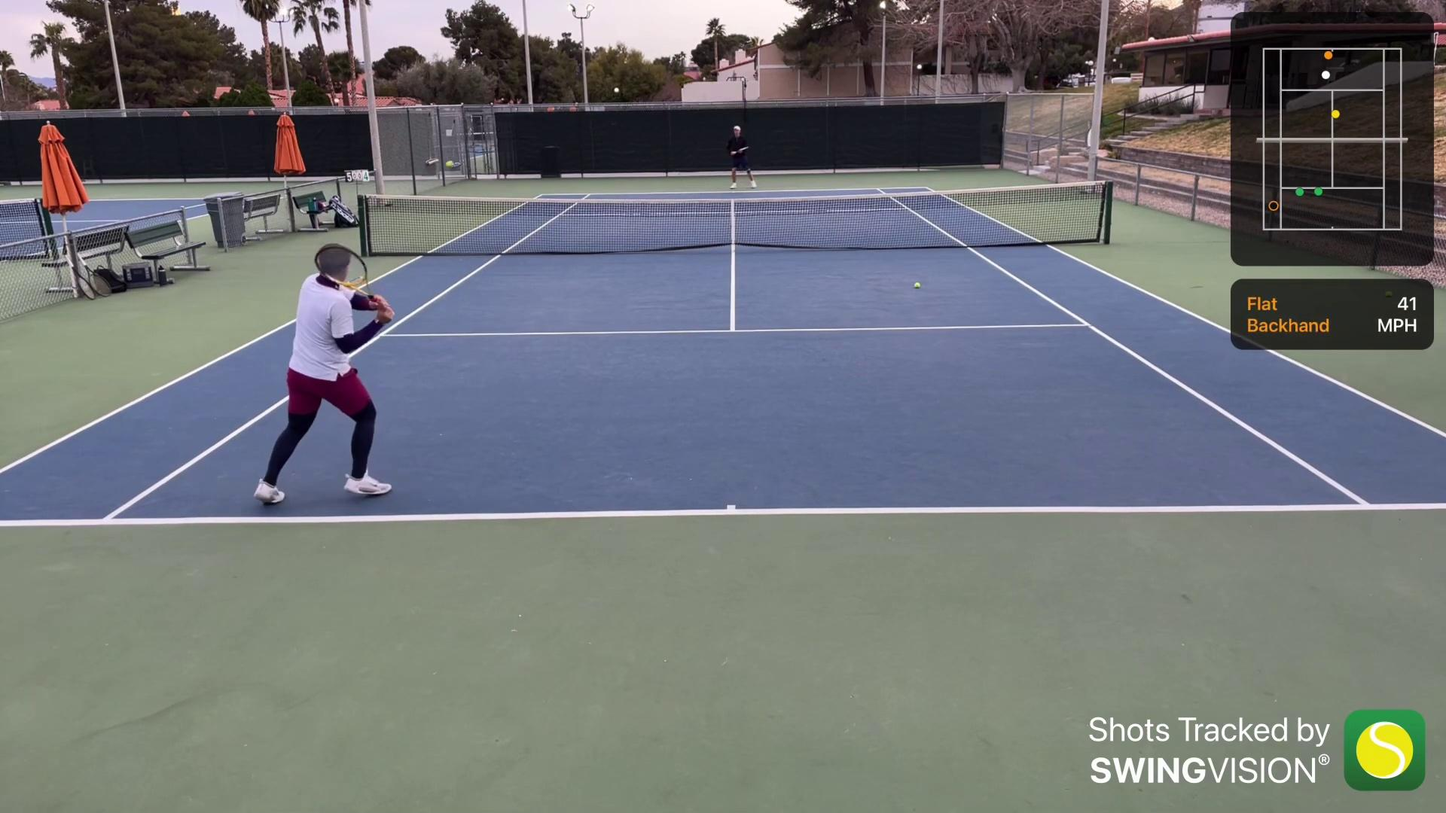ball: (912, 278, 922, 292), (444, 159, 455, 168)
